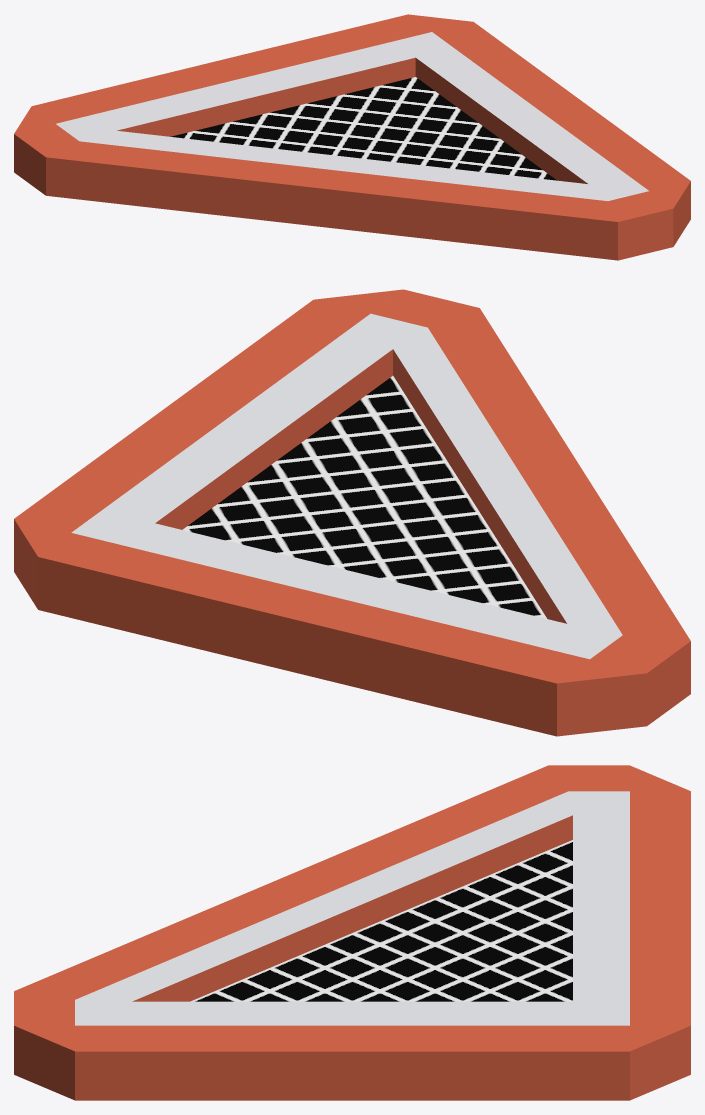
The model's file is metalTileCorner.glb.
3 renders of one model, top to bottom at view 1: azimuth 30°, elevation 25°; view 2: azimuth 150°, elevation 25°; view 3: azimuth 270°, elevation 25°, orthographic. The views are drawn at different scales.
Visible parts, largest first — view 1: metalTileCorner; view 2: metalTileCorner; view 3: metalTileCorner.
Boxes of the visible parts, x1,y1,x2,y2 form: metalTileCorner: (14, 14, 690, 260); metalTileCorner: (14, 289, 690, 736); metalTileCorner: (14, 765, 690, 1100).
Bounding box in the file's own units: 10 × 0.8 × 10.
Materials: 3 (1 with a texture image).
